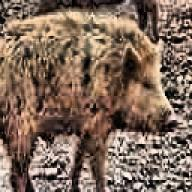boar: (0, 6, 177, 192), (34, 0, 180, 42)
